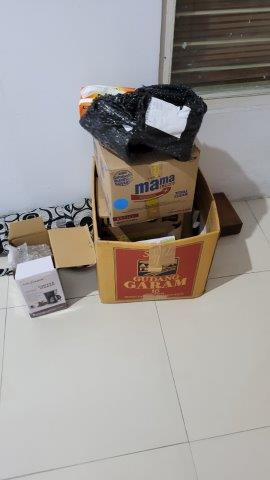kardus: (91, 141, 220, 302), (4, 217, 93, 319)
kertas: (143, 94, 190, 141)
